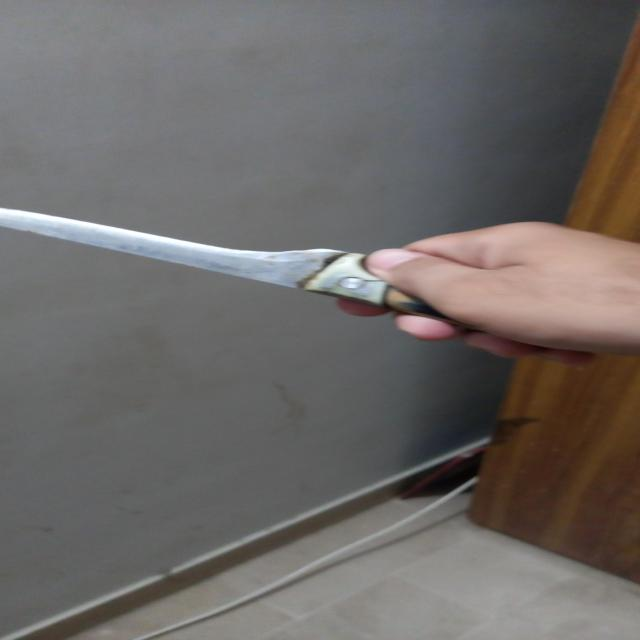Knife: (0, 202, 502, 334)
Person: (331, 222, 640, 370)
